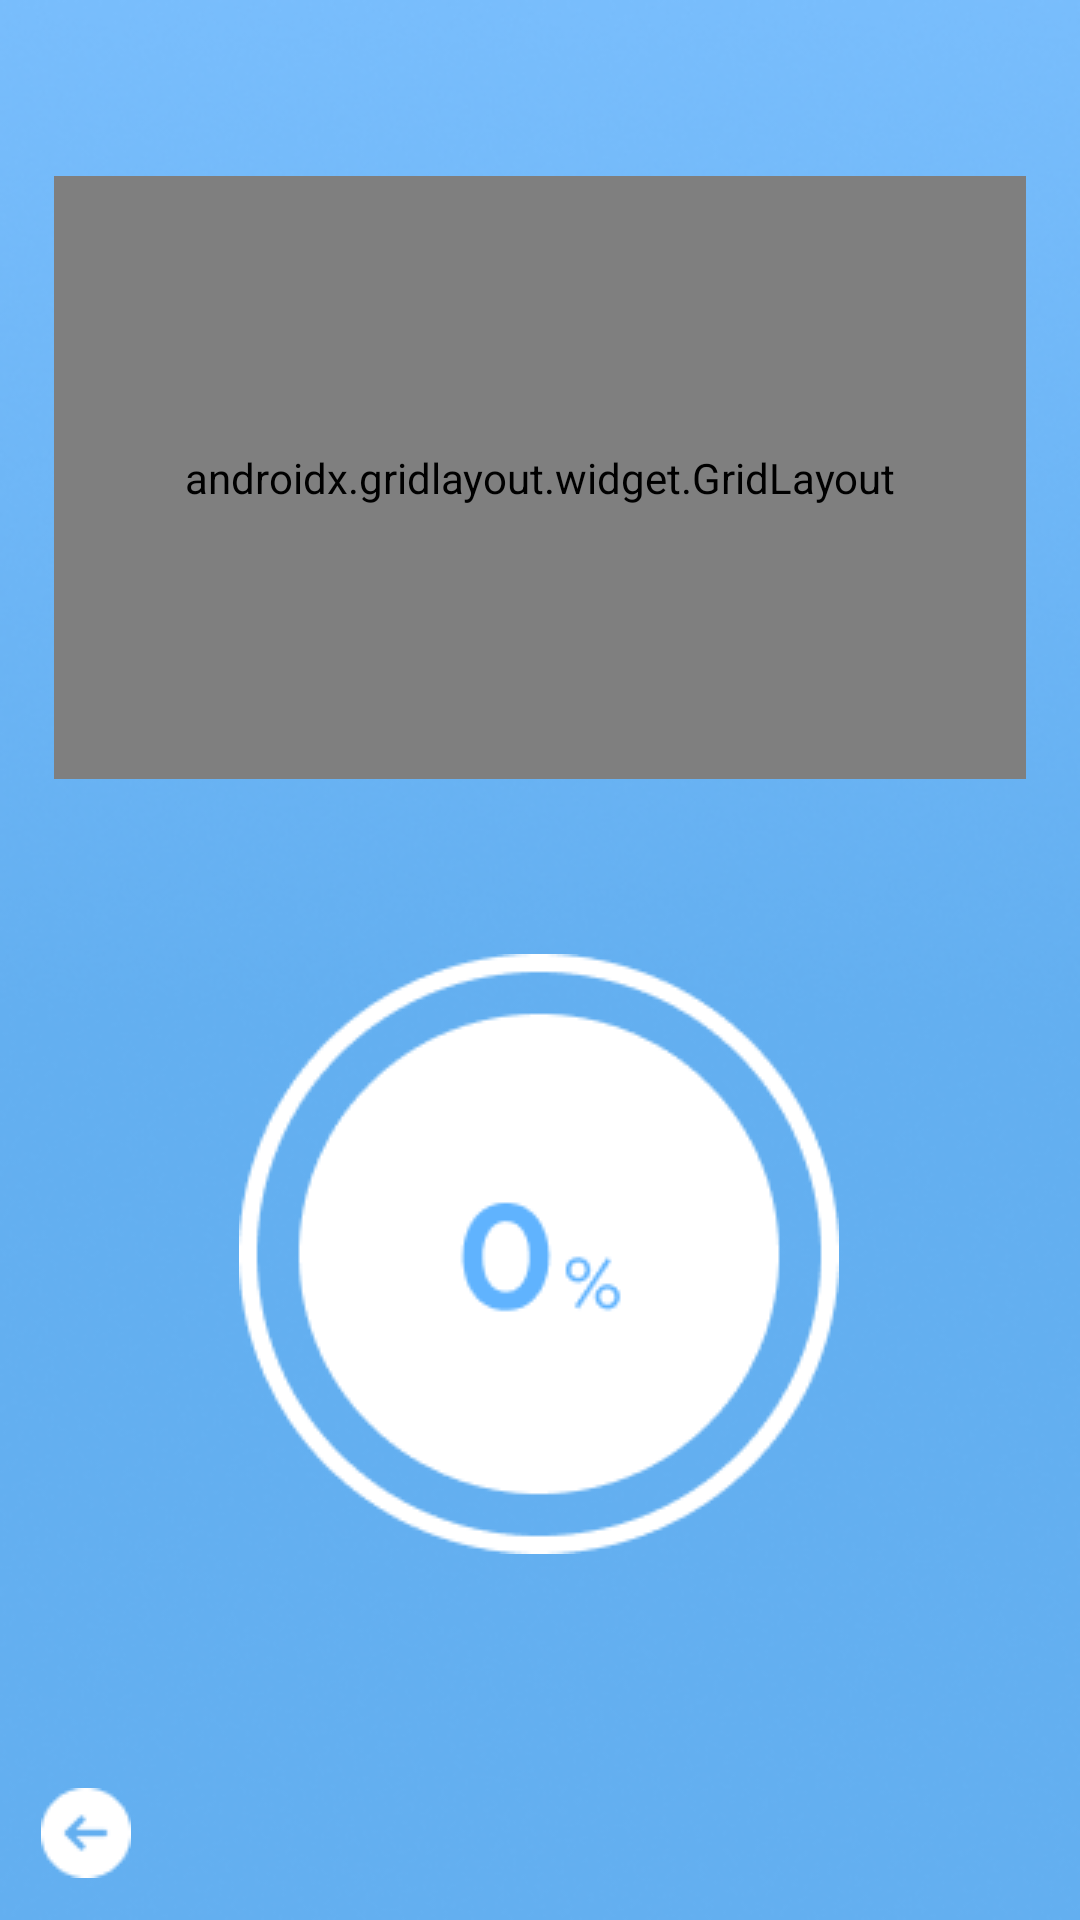

Icons on this 1080px x 1920px Android screen, each with its box as (x1, y1, x2, y2):
back: (41, 1788, 131, 1878)
